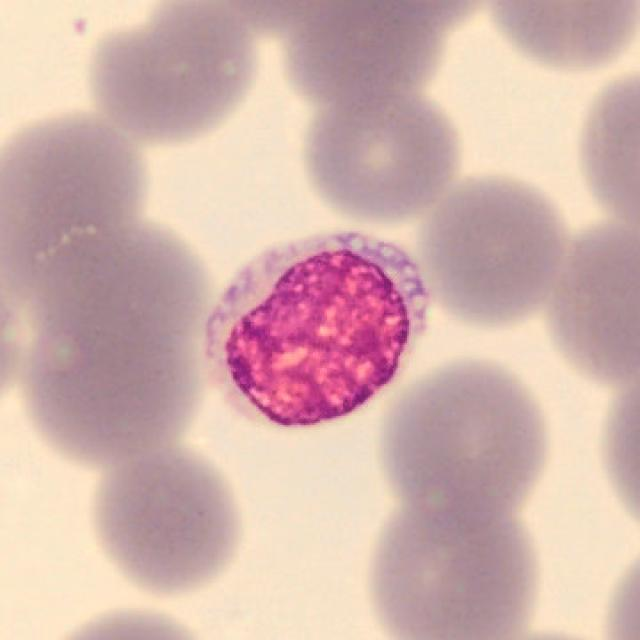Linfocito atipico: (204, 231, 430, 428)
